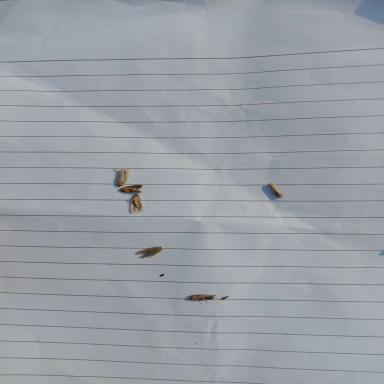pbw: (135, 245, 164, 260), (113, 166, 132, 187), (187, 292, 220, 304), (127, 194, 145, 214), (119, 184, 144, 194), (268, 182, 282, 198)
